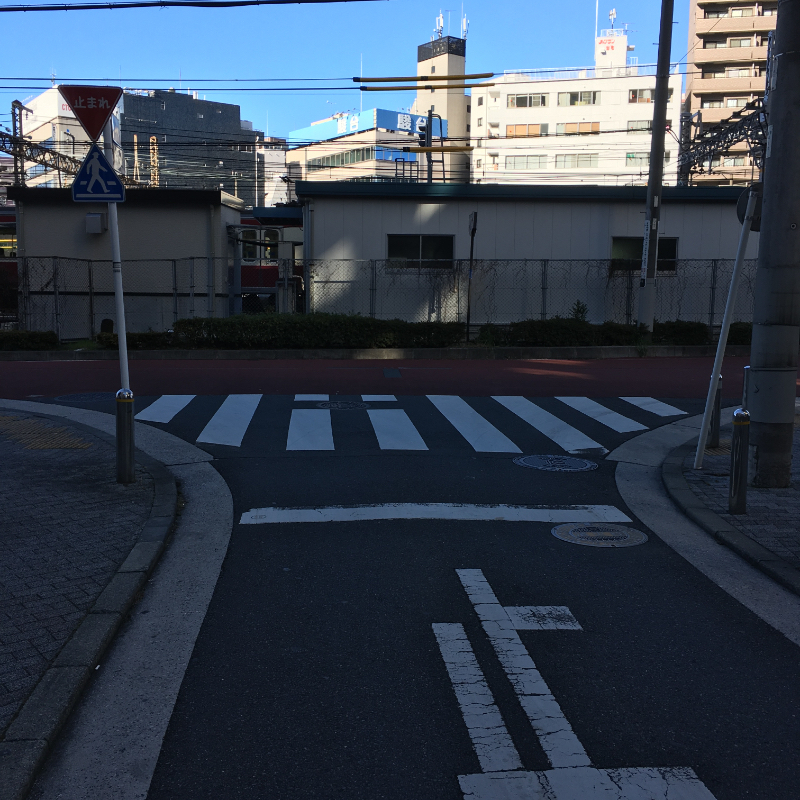STOP: (53, 83, 126, 143)
